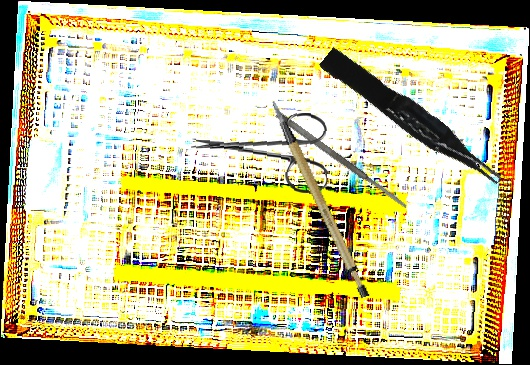Iris Scissors: (188, 105, 332, 195)
Scalpel Handle: (270, 90, 372, 307)
Spatula Surgical: (274, 110, 409, 211)
Tissue Forceps: (318, 39, 506, 200)
